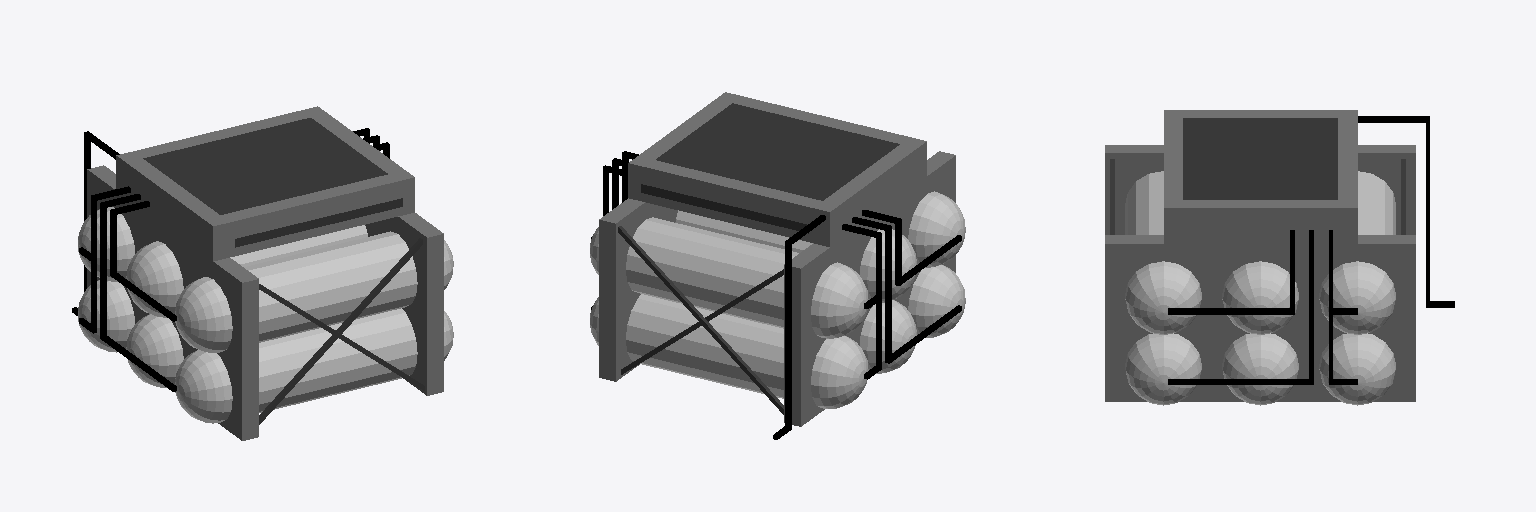
Rendered from compressor.obj.
3 views of the same model, side by side, from view 1: azimuth 30°, elevation 25°; view 2: azimuth 150°, elevation 25°; view 3: azimuth 270°, elevation 25° (orthographic).
Parts seen in each view (by area): view 1: compressor; view 2: compressor; view 3: compressor.
Boxes of the visible parts, <box> form: compressor: <box>72,106,453,440</box>; compressor: <box>590,92,965,439</box>; compressor: <box>1105,110,1454,405</box>.
Bounding box in the file's own units: 8.25 × 5.5 × 9.